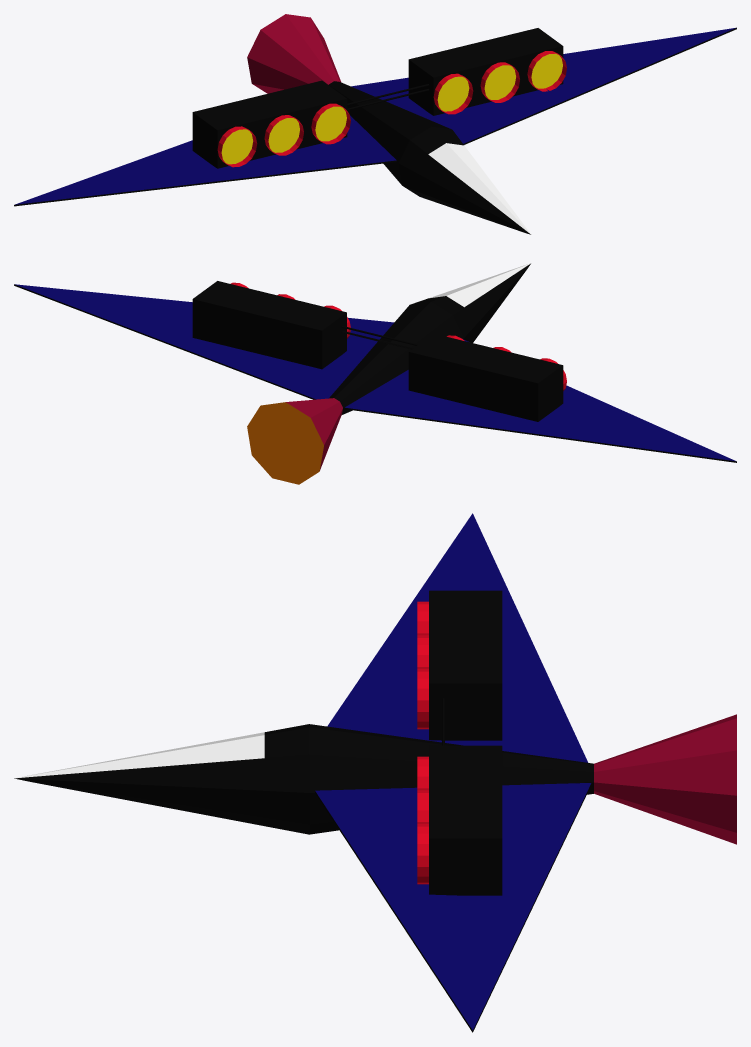
File: Rocket_Ship.fbx
The picture shows the model from 3 angles, top to bottom: view 1: azimuth 30°, elevation 25°; view 2: azimuth 150°, elevation 25°; view 3: azimuth 270°, elevation 25°; orthographic projection. The views are drawn at different scales.
Visible parts, largest first — view 1: Ship; view 2: Ship; view 3: Ship.
Part boxes in pixels (box(x1,y1,x2,y2)): Ship: box(14, 14, 736, 234); Ship: box(14, 263, 736, 484); Ship: box(14, 513, 736, 1032).
Bounding box in the file's own units: 8.37 × 0.906 × 4.93.
